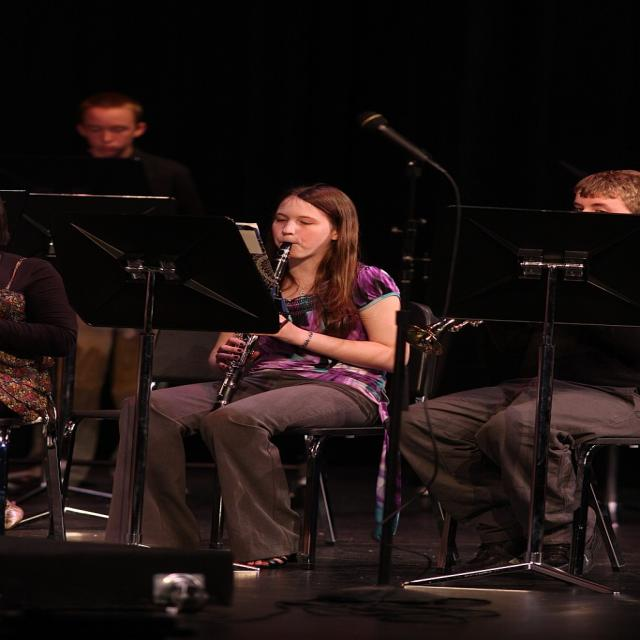clarinet: (207, 240, 300, 414)
